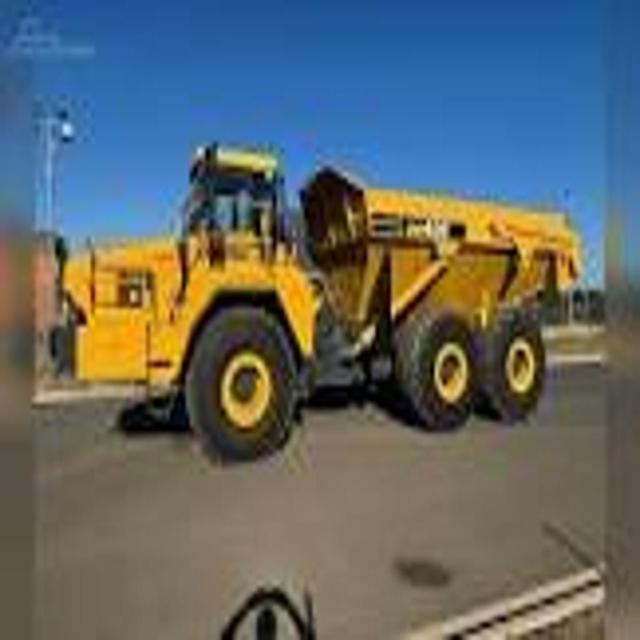dump_truck: (60, 138, 584, 464)
